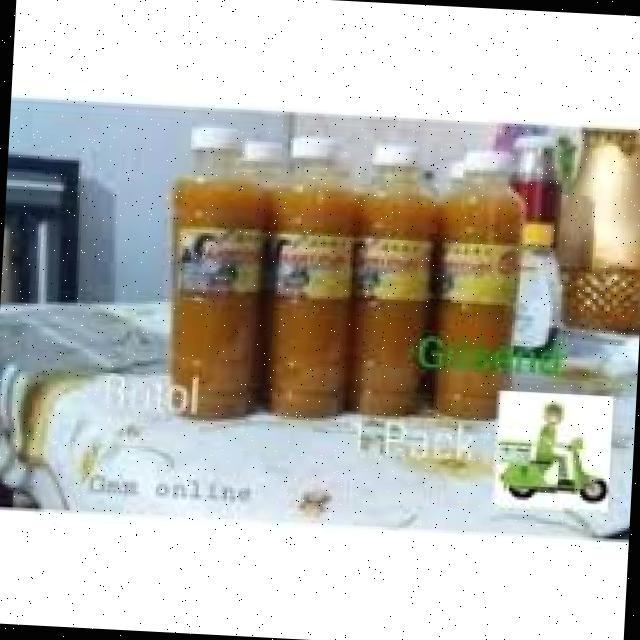bottle: (423, 132, 550, 434), (157, 116, 280, 420), (334, 140, 456, 420), (264, 142, 376, 422)
cap: (180, 124, 242, 156), (456, 152, 514, 182), (288, 133, 342, 161), (373, 142, 414, 168)
label: (176, 225, 276, 294), (354, 236, 432, 304), (280, 240, 362, 298), (442, 241, 512, 299)
